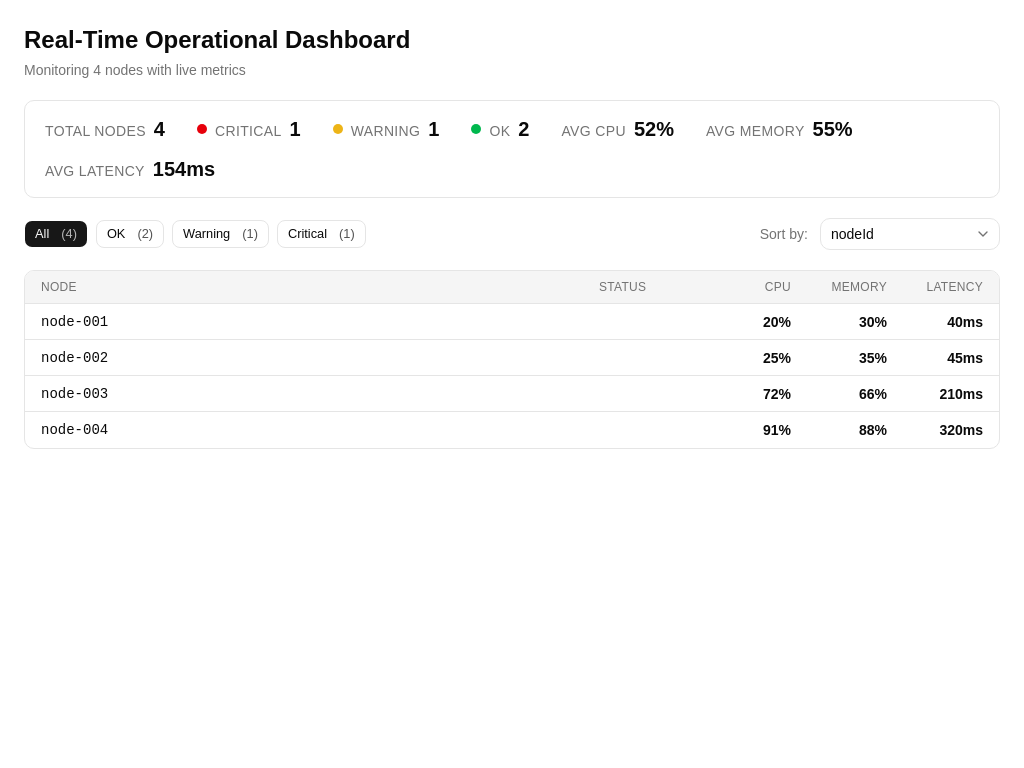
App › closes the node telemetry with the close button
The width and height of the screenshot is (1024, 768).
Click the text "node-004" at (75, 430), box x1=25 y1=412 x2=583 y2=448
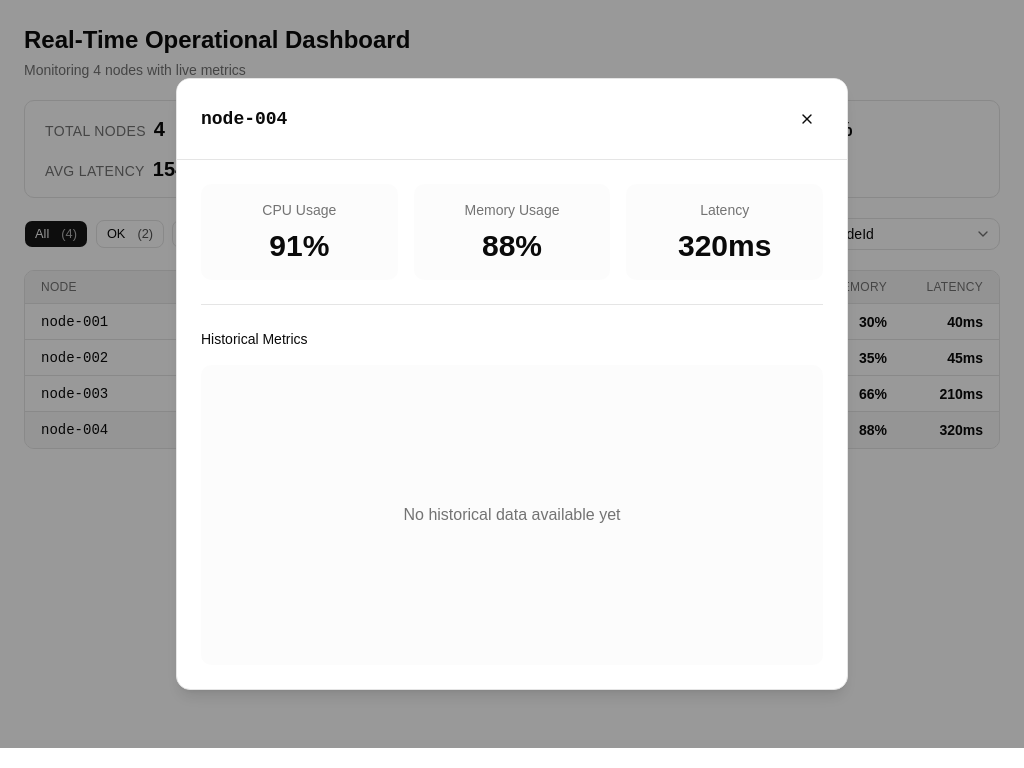
Click the button named "Close" at (807, 119), box x1=791 y1=103 x2=823 y2=135
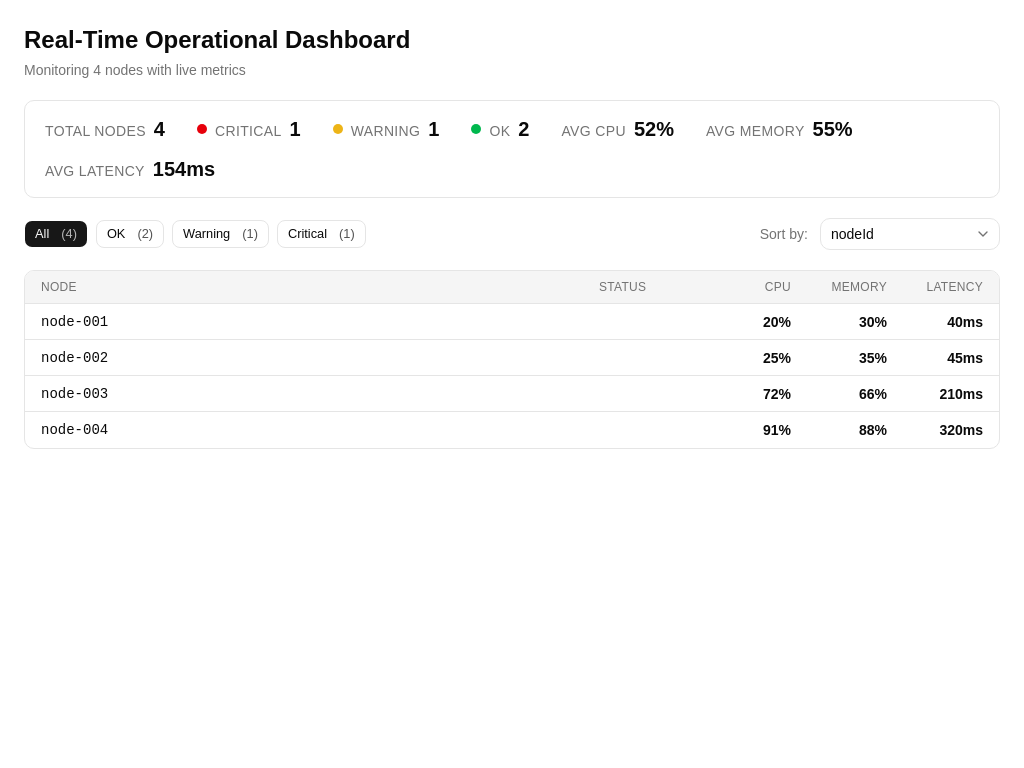
Check: the dialog is gone
